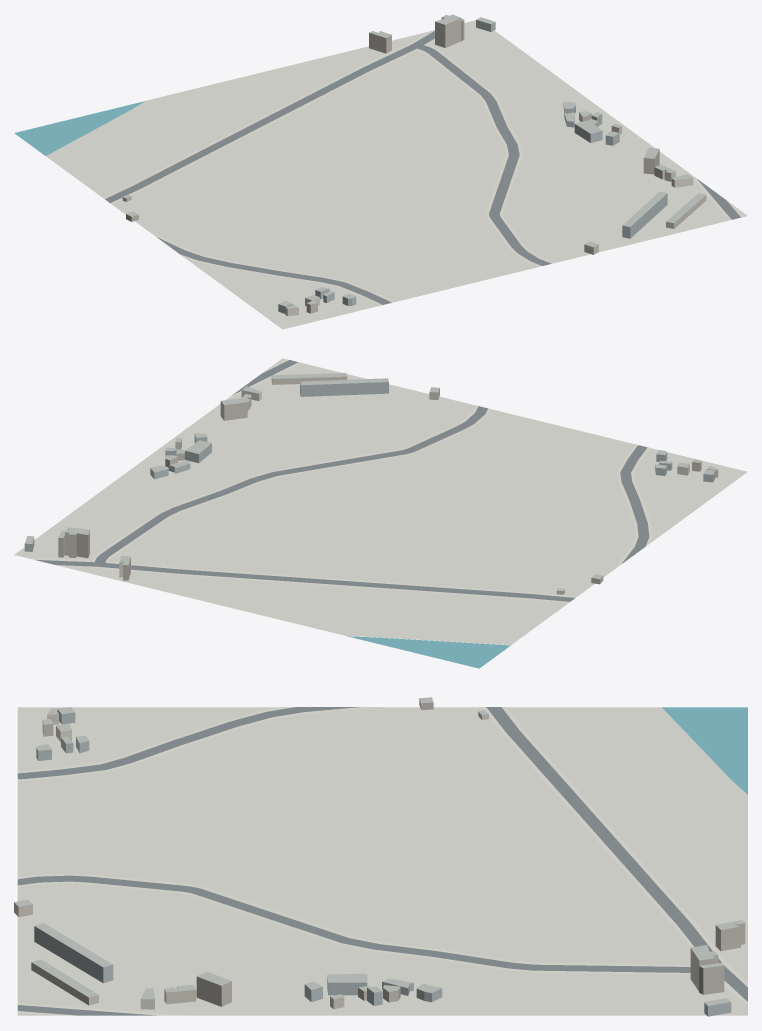
3 renders of one model, top to bottom at view 1: azimuth 30°, elevation 25°; view 2: azimuth 150°, elevation 25°; view 3: azimuth 270°, elevation 25°, orthographic. The views are drawn at different scales.
Parts seen in each view (by area): view 1: city; view 2: city; view 3: city.
Boxes of the visible parts, x1,y1,x2,y2 form: city: [14, 14, 747, 329]; city: [14, 358, 747, 668]; city: [14, 697, 747, 1016].
Size of the model in its own units: 506 by 24.08 by 503.
